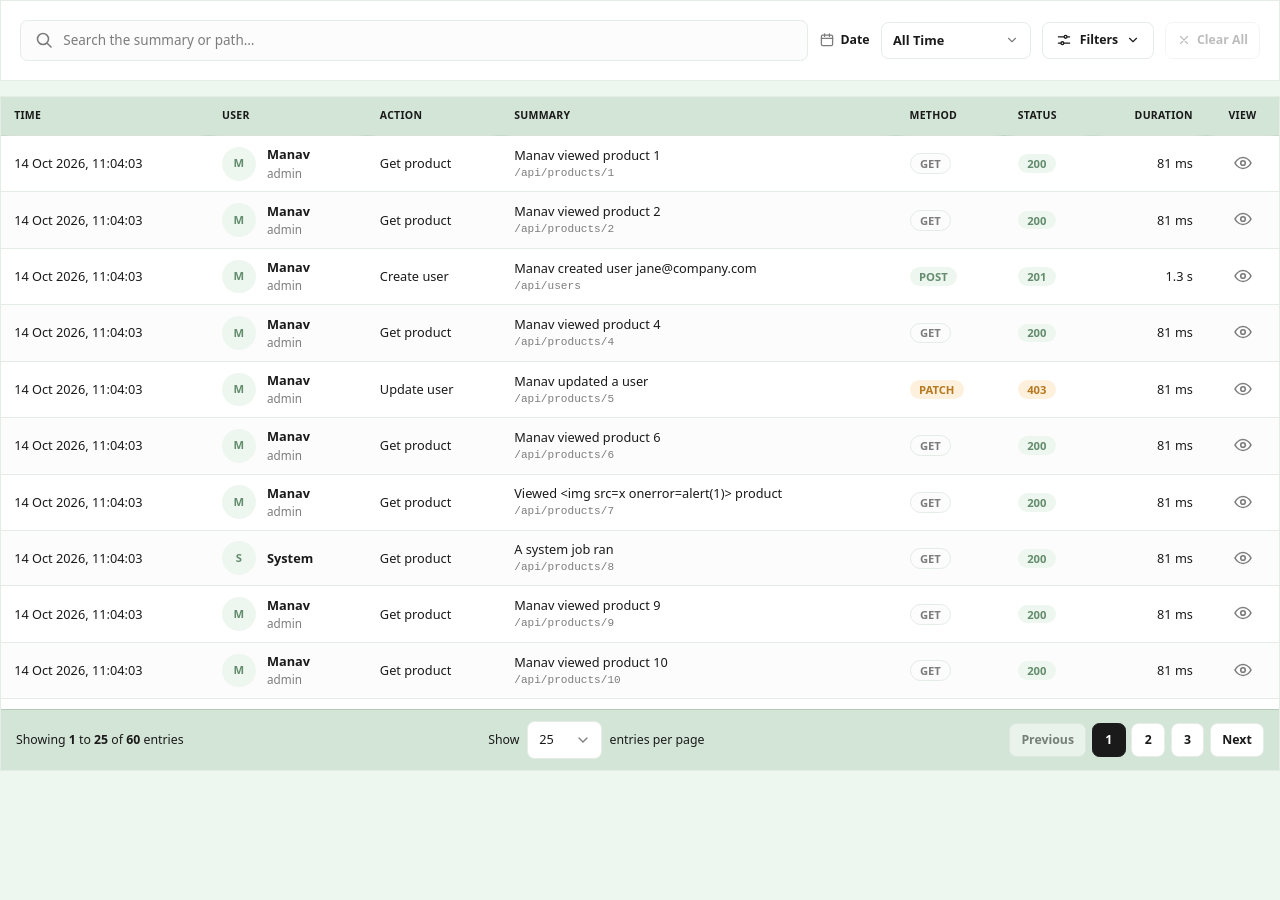
Test case: ActivityPage › details › opens the full record in a side panel, with the changes and request details as JSON
Expected: the text "Manav viewed product 1" is shown, [514,146,660,164]
Click the button named "View activity 3" at (1243, 276), box [1229,262,1256,290]
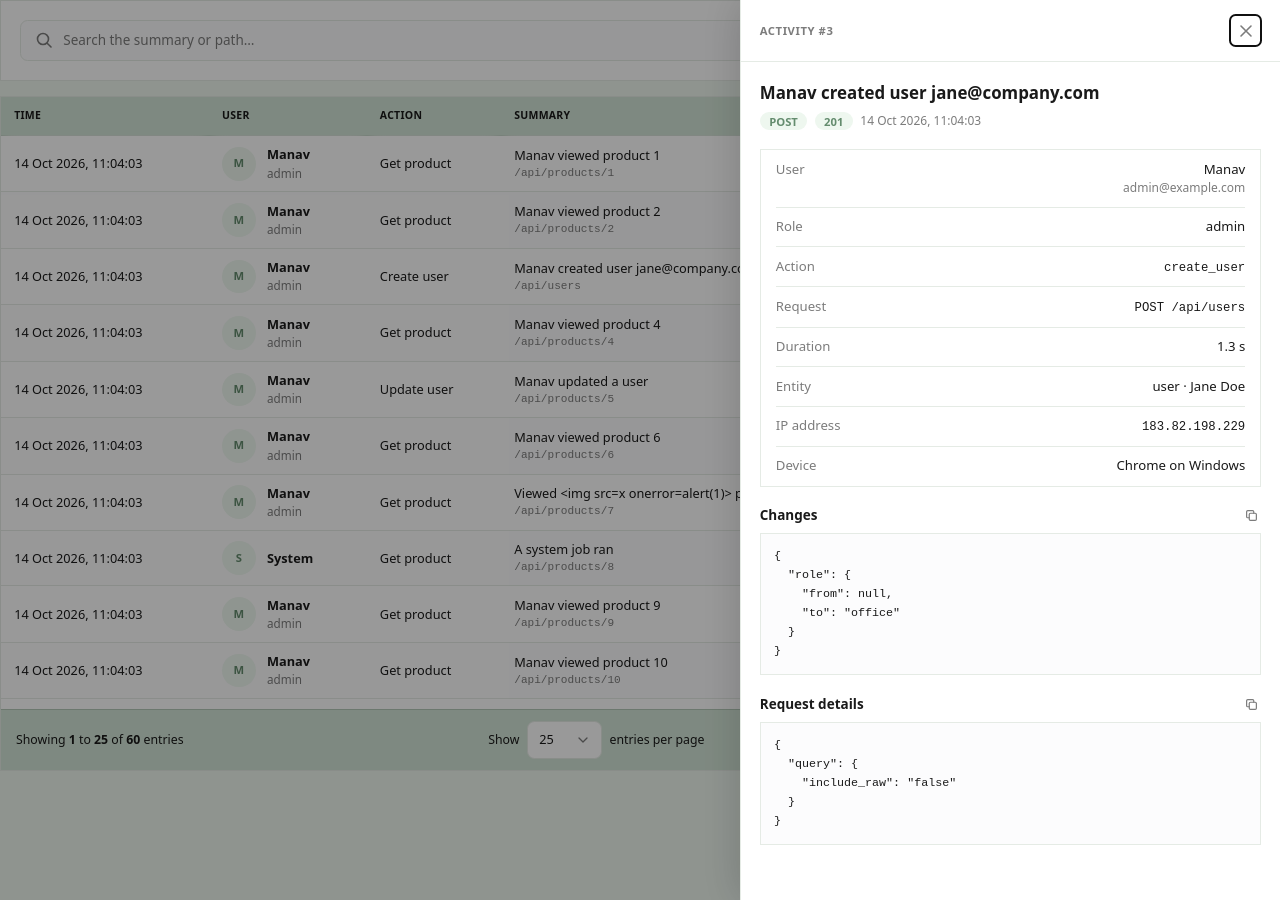
Result: the heading "Manav created user jane@company.com" is shown at [760,81,1100,104]
Result: the text "admin@example.com" is shown at [1123,179,1245,197]
Result: the text "create_user" is shown at [1164,261,1245,275]
Press Escape
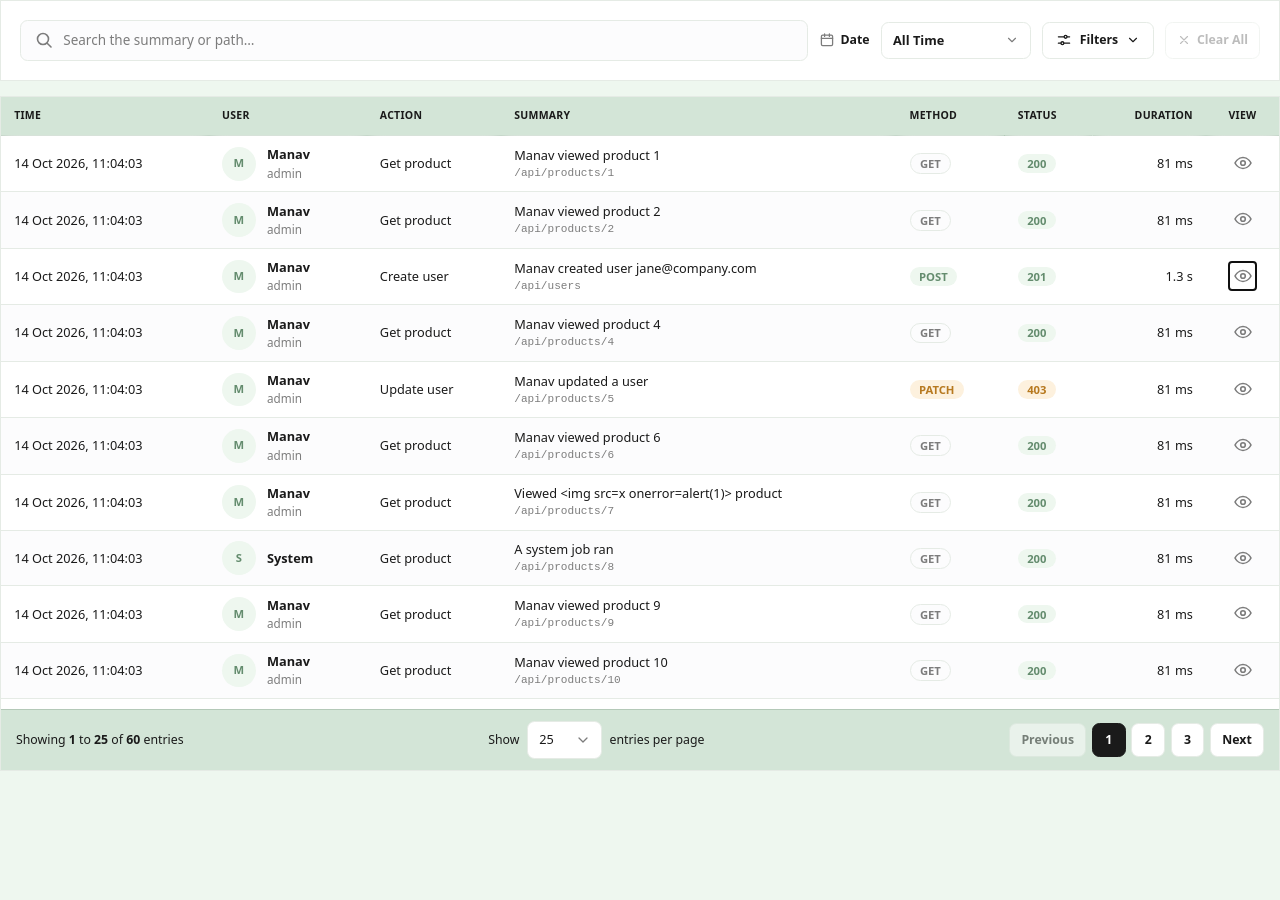
Result: the dialog is gone
